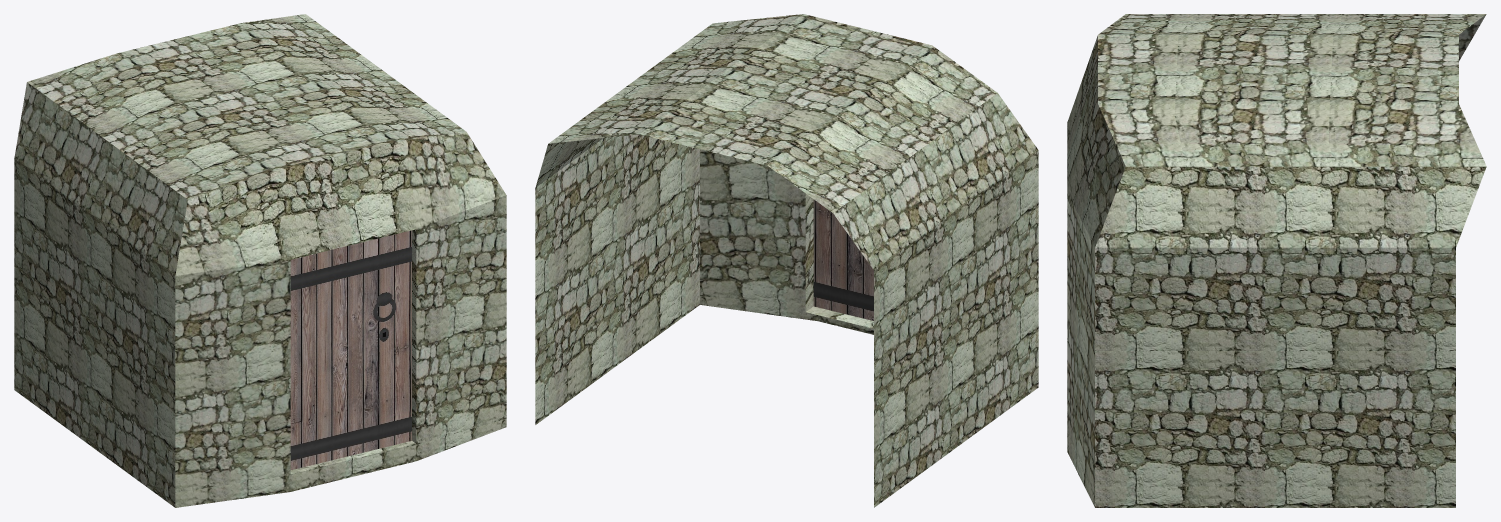
File: Vl_Cellar.glb
The picture shows the model from 3 angles, left to right: view 1: azimuth 30°, elevation 25°; view 2: azimuth 150°, elevation 25°; view 3: azimuth 270°, elevation 25°; orthographic projection. The views are drawn at different scales.
Parts seen in each view (by area): view 1: Celler; view 2: Celler; view 3: Celler.
Boxes of the visible parts, x1=… form: Celler: x1=14, y1=14, x2=506, y2=507; Celler: x1=535, y1=14, x2=1038, y2=507; Celler: x1=1067, y1=14, x2=1486, y2=507.
Size of the model in its own units: 2.38 by 2.13 by 2.32.
2 materials, 2 textured.
